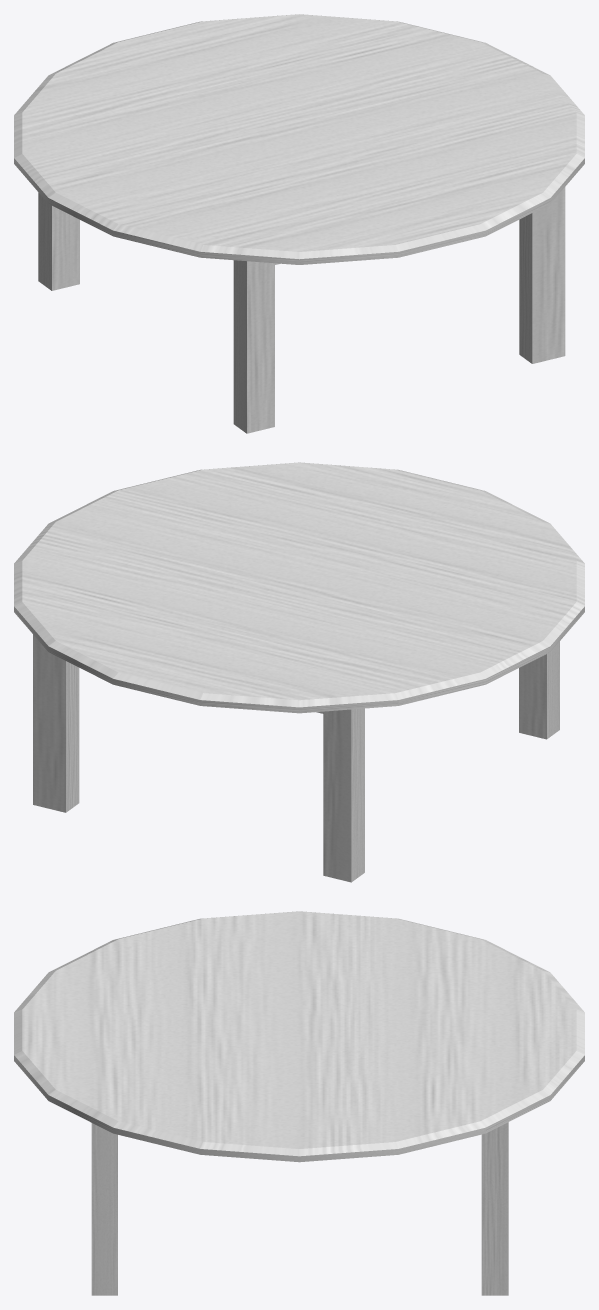
File: Round Table_B_2.FBX
3 renders of one model, top to bottom at view 1: azimuth 30°, elevation 25°; view 2: azimuth 150°, elevation 25°; view 3: azimuth 270°, elevation 25°, orthographic.
Parts seen in each view (by area): view 1: Round Dining table; view 2: Round Dining table; view 3: Round Dining table.
Part boxes in pixels (x1,y1,x2,y2): Round Dining table: (14, 14, 584, 433); Round Dining table: (14, 462, 584, 882); Round Dining table: (14, 911, 584, 1295).
Size of the model in its own units: 360 by 128 by 355.
